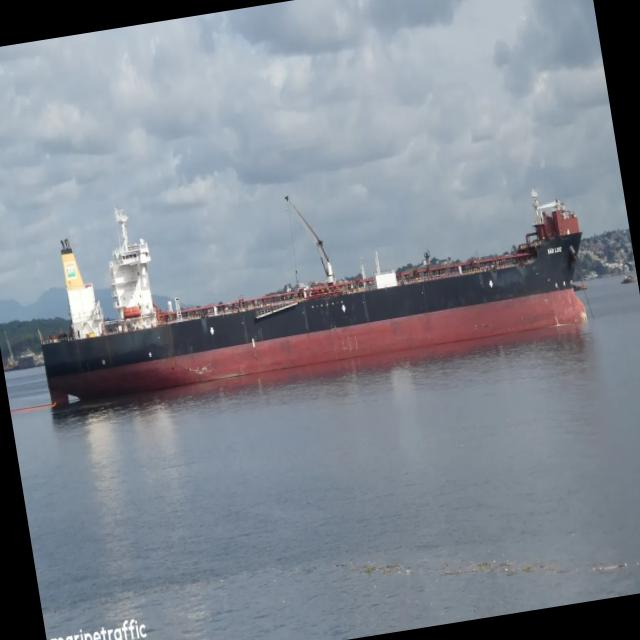Tanker: (42, 201, 586, 402)
